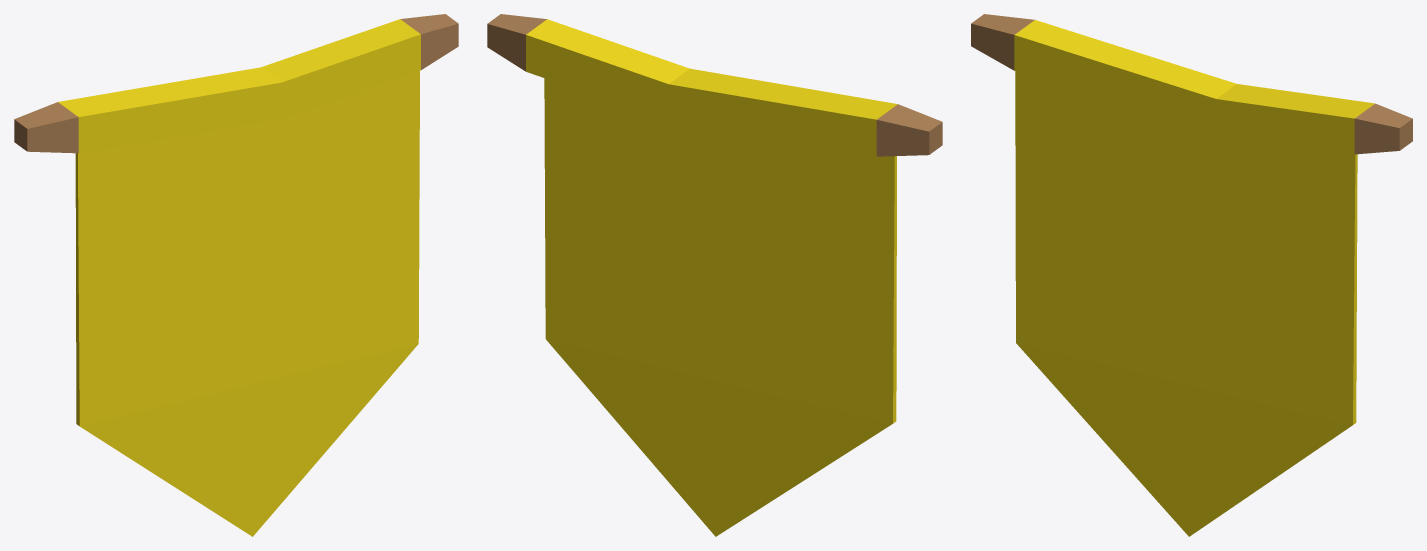
Rendered from banner_yellow.fbx.
The picture shows the model from 3 angles, left to right: view 1: azimuth 30°, elevation 25°; view 2: azimuth 150°, elevation 25°; view 3: azimuth 330°, elevation 25°; orthographic projection. The views are drawn at different scales.
Visible parts, largest first — view 1: banner_yellow; view 2: banner_yellow; view 3: banner_yellow.
Boxes of the visible parts, <box> form: banner_yellow: <box>14,14,458,536</box>; banner_yellow: <box>487,14,942,536</box>; banner_yellow: <box>971,14,1412,536</box>.
Bounding box in the file's own units: 127 × 130 × 10.59.
